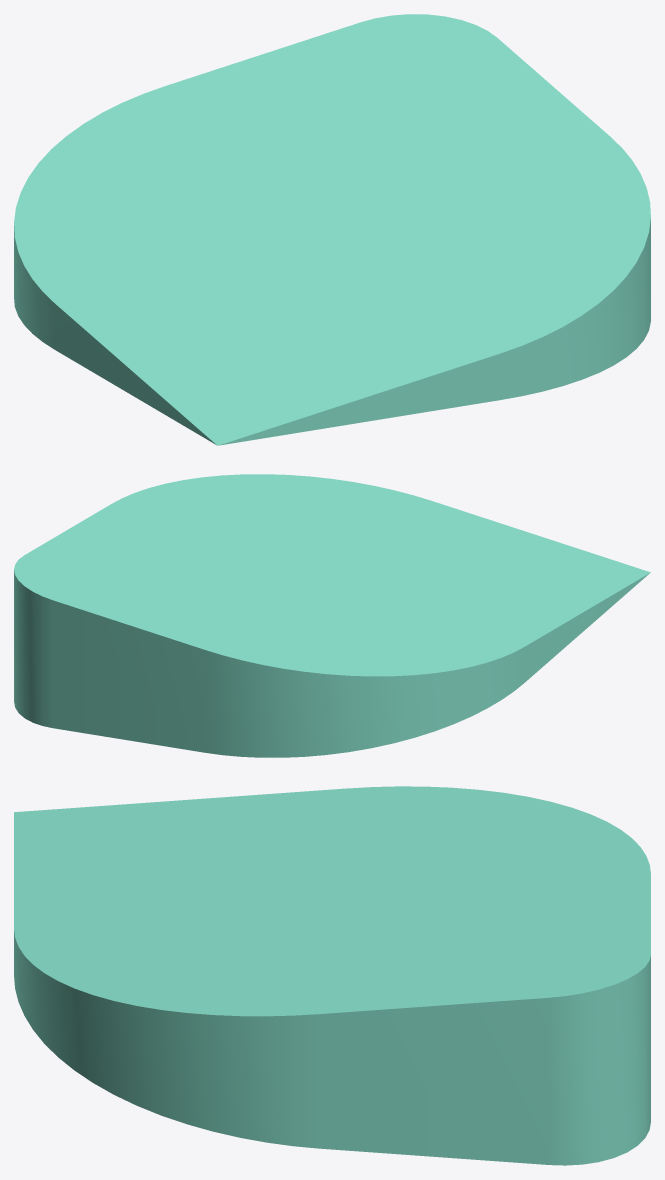
Rendered from Fatshape.gltf.
The picture shows the model from 3 angles, top to bottom: view 1: azimuth 30°, elevation 25°; view 2: azimuth 150°, elevation 25°; view 3: azimuth 270°, elevation 25°; orthographic projection. The views are drawn at different scales.
Parts seen in each view (by area): view 1: Cube; view 2: Cube; view 3: Cube.
Boxes of the visible parts, left/top/right/bottom form: Cube: left=14, top=14, right=650, bottom=445; Cube: left=14, top=474, right=650, bottom=757; Cube: left=14, top=786, right=650, bottom=1165.
Size of the model in its own units: 50 by 15 by 50.
